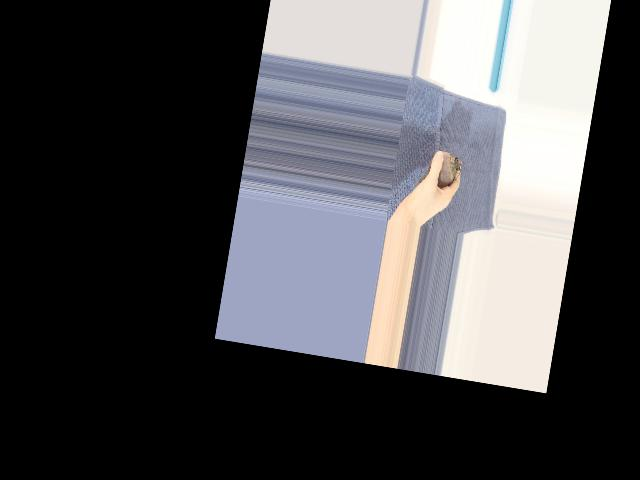beet: (414, 146, 463, 189)
